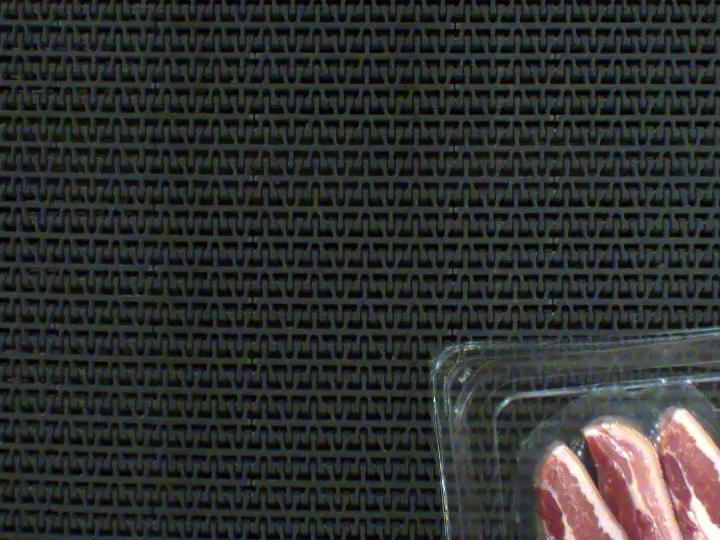unsealed: (525, 336, 720, 540)
